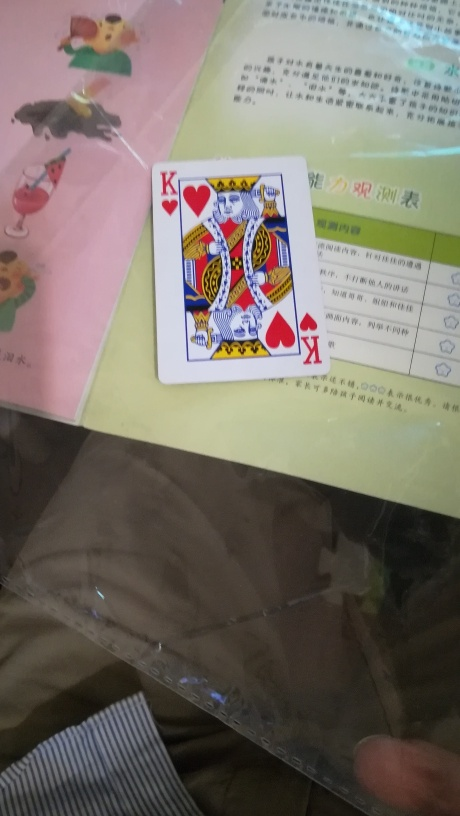hx k: (149, 154, 326, 380)
